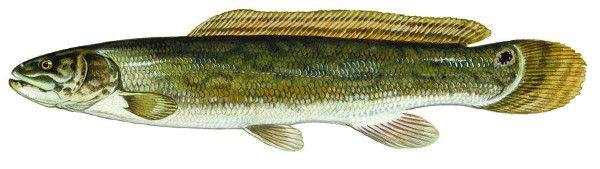Mudfish: (10, 2, 588, 153)
